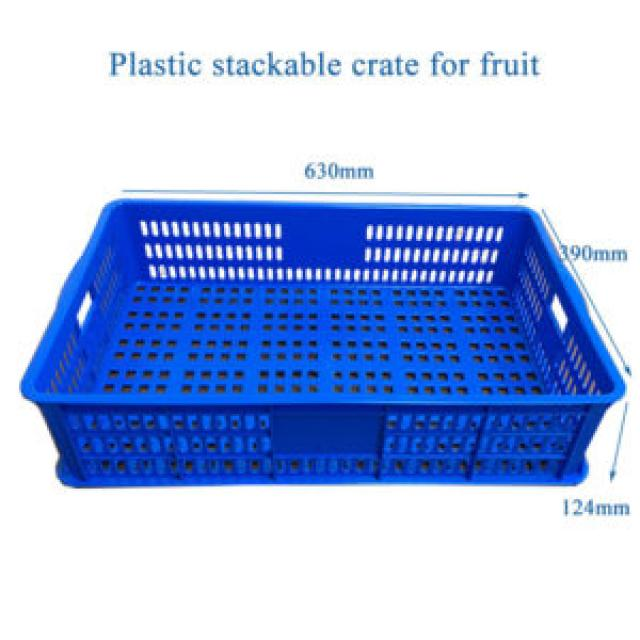basket: (21, 199, 627, 488)
